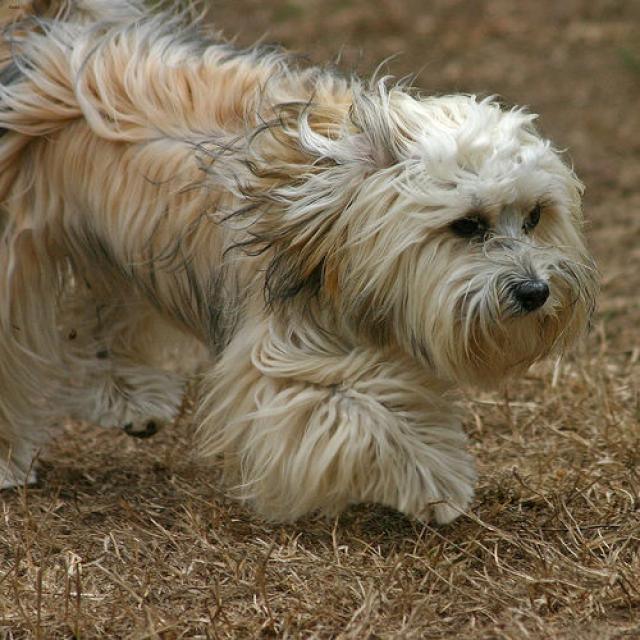dog-havanese: (1, 1, 605, 543)
